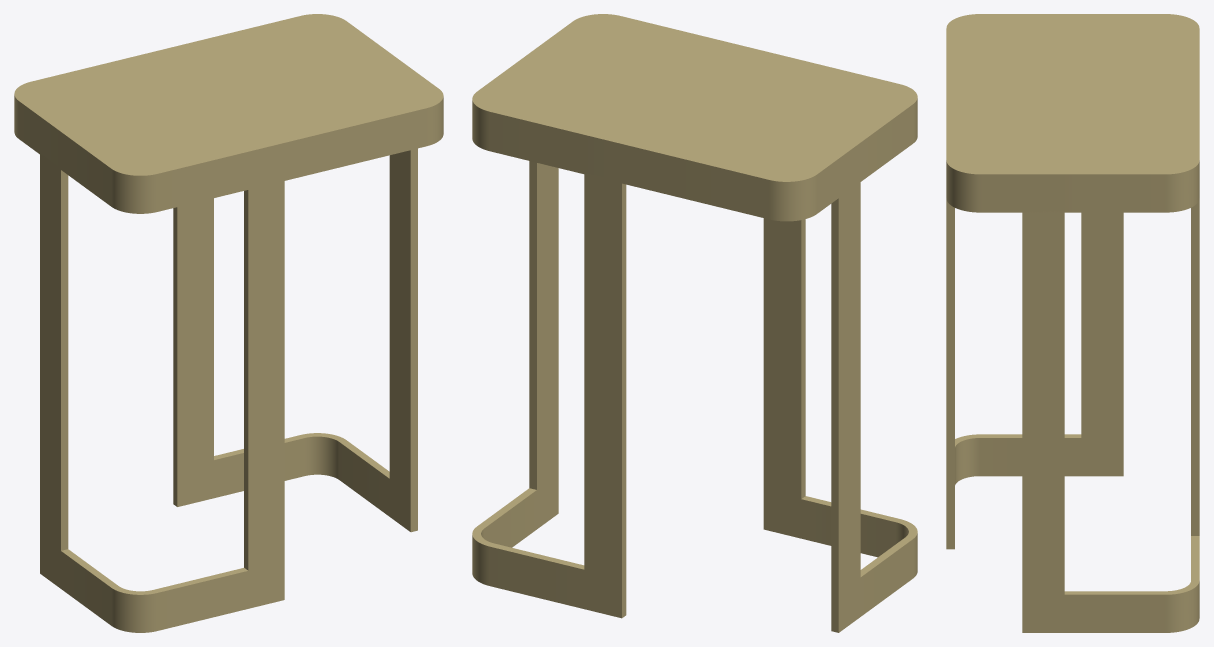
3 views of the same model, side by side, from view 1: azimuth 30°, elevation 25°; view 2: azimuth 150°, elevation 25°; view 3: azimuth 270°, elevation 25° (orthographic). The views are drawn at different scales.
Visible parts, largest first — view 1: stool; view 2: stool; view 3: stool.
Boxes of the visible parts, bbox=[...] form: stool: bbox=[14, 14, 443, 632]; stool: bbox=[472, 14, 917, 632]; stool: bbox=[946, 14, 1199, 632].
Size of the model in its own units: 0.45 by 0.6 by 0.3.
